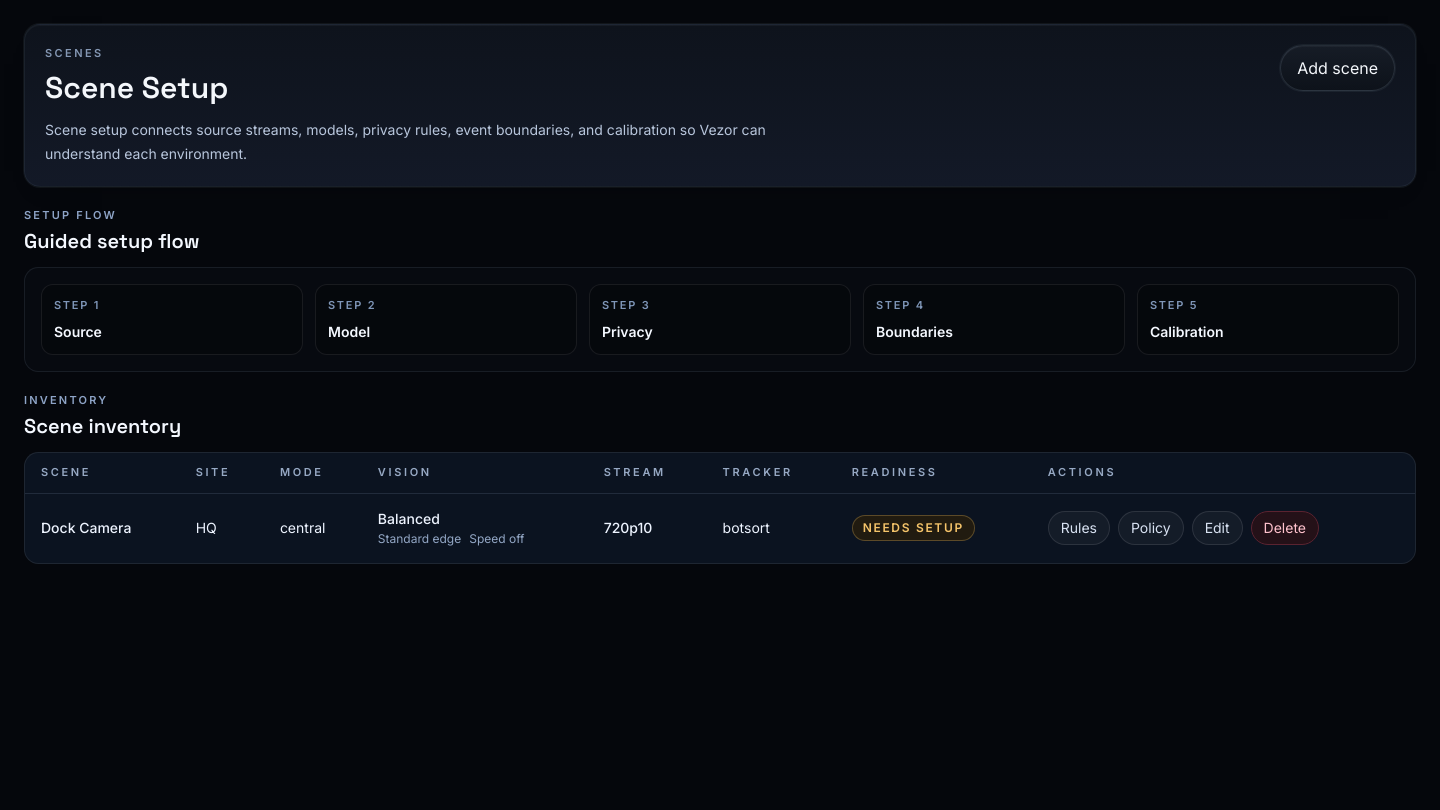
Scenario: CamerasPage › reports scene delete failures after confirmation
Expected: the text "Dock Camera" is shown, [41,520,131,536]
Click the button "Delete" at (1285, 528), box [1251,512,1319,546]
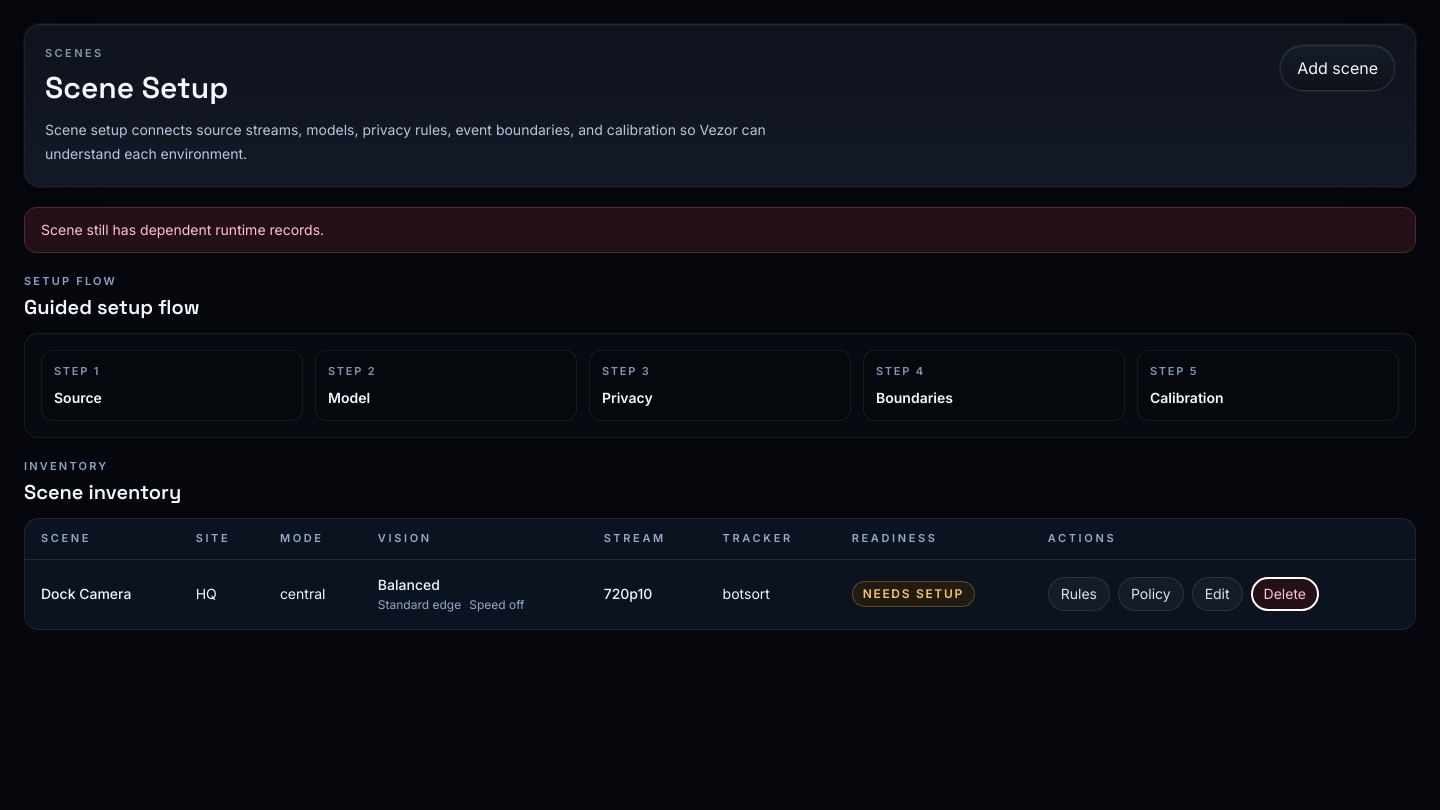
Result: the message reads "Scene still has dependent runtime records." at [41,220,324,238]
